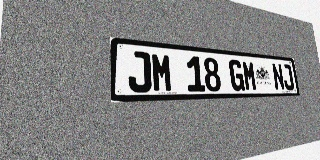1: (186, 55, 205, 92)
8: (203, 57, 221, 91)
G: (228, 59, 245, 91)
J: (127, 50, 152, 93), (281, 64, 294, 90)
M: (151, 52, 173, 92), (242, 60, 257, 91)
N: (271, 63, 285, 90)
